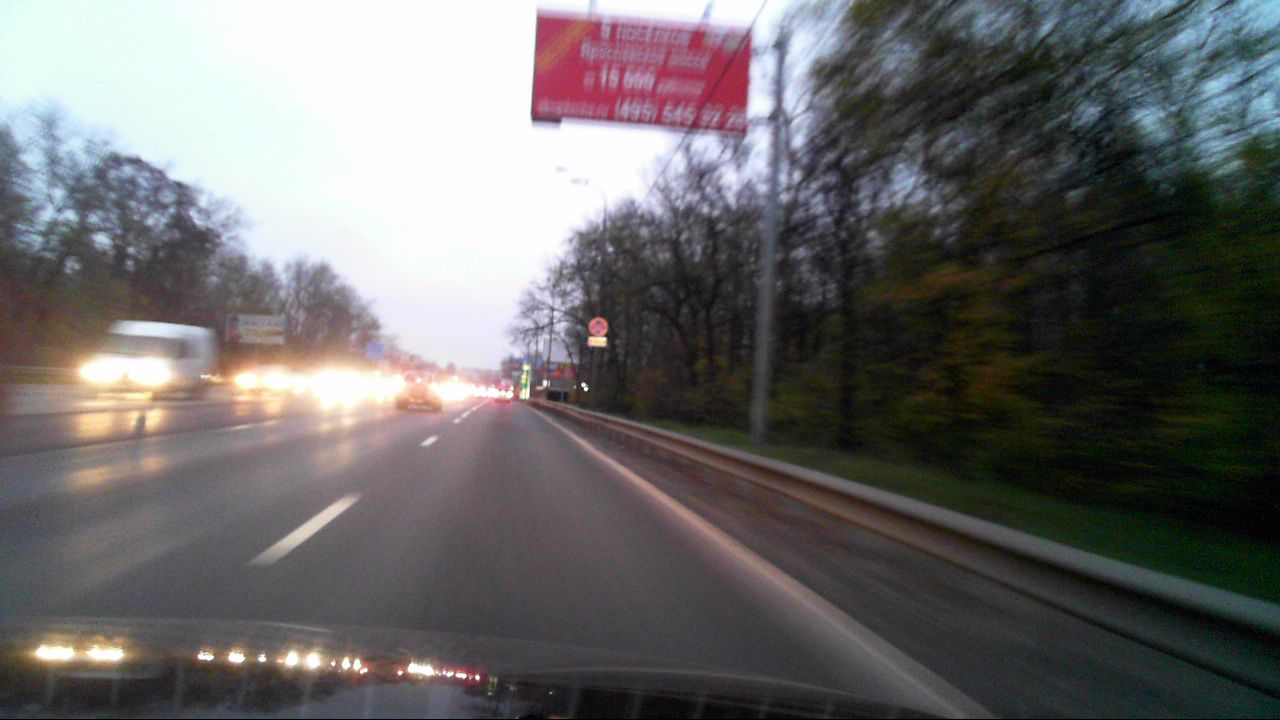No Parking: (588, 317, 607, 336)
